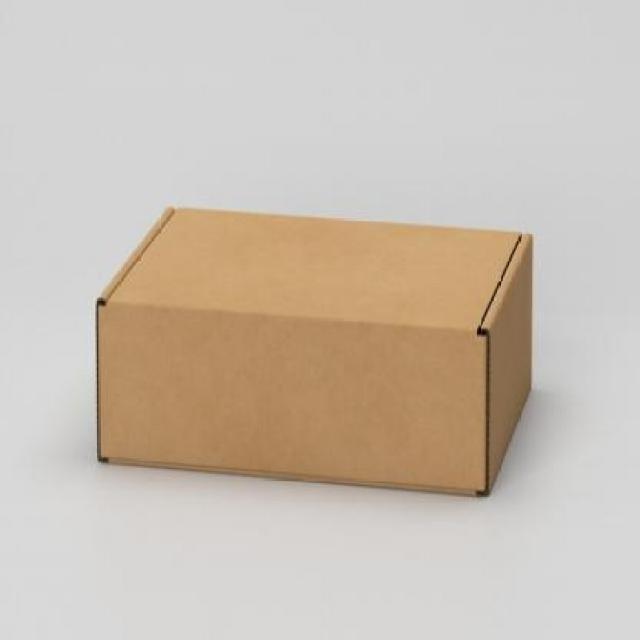box: (89, 203, 531, 497)
